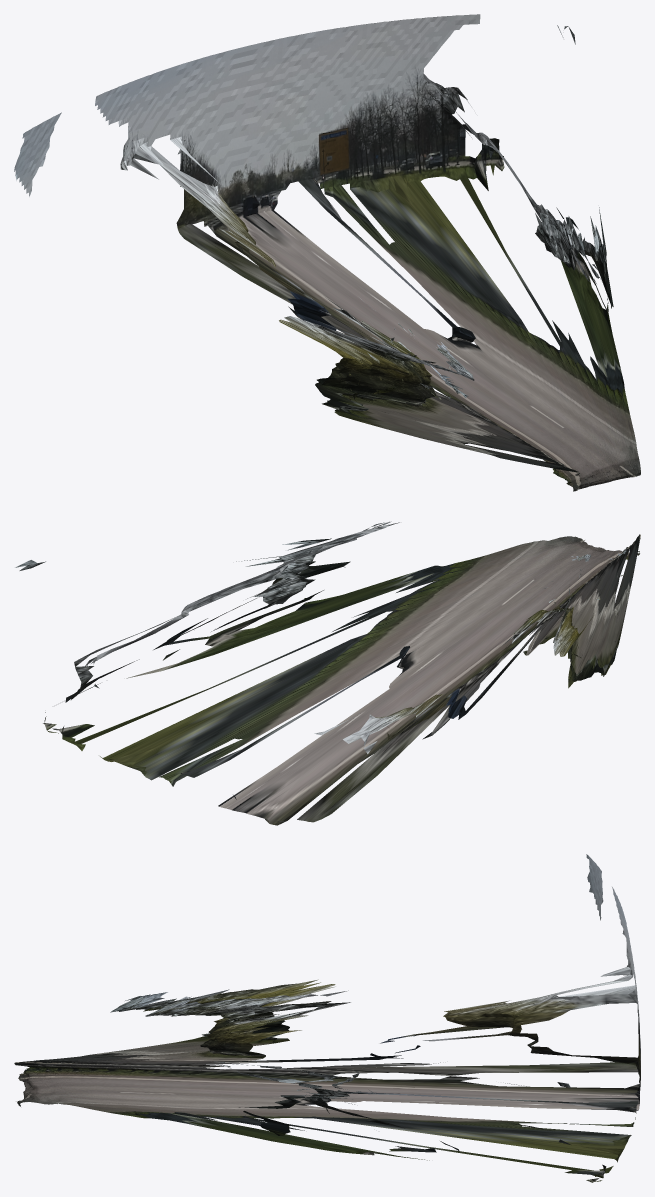
3 renders of one model, top to bottom at view 1: azimuth 30°, elevation 25°; view 2: azimuth 150°, elevation 25°; view 3: azimuth 270°, elevation 25°, orthographic. The views are drawn at different scales.
Visible parts, largest first — view 1: defaultobject; view 2: defaultobject; view 3: defaultobject.
Boxes of the visible parts, left/top/right/bottom form: defaultobject: left=14, top=14, right=640, bottom=491; defaultobject: left=15, top=521, right=640, bottom=825; defaultobject: left=14, top=854, right=640, bottom=1182.
Size of the model in its own units: 37.69 by 12.09 by 44.89.
Materials: 1 (1 with a texture image).
